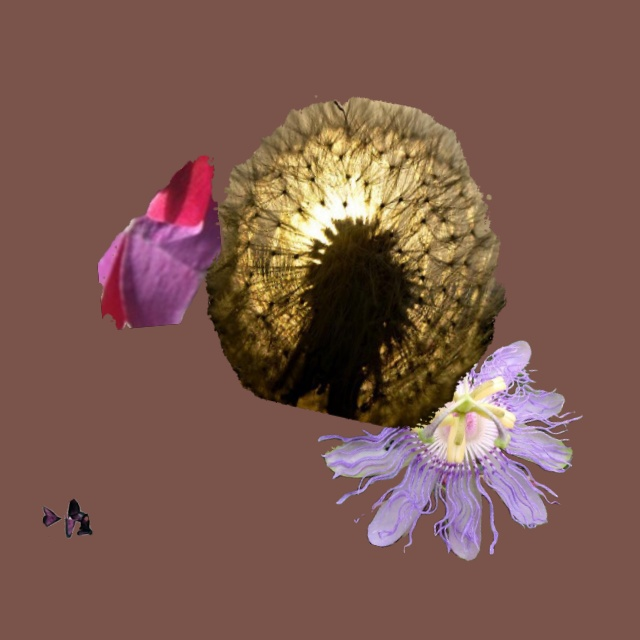butterfly flower: (97, 156, 221, 328), (43, 499, 91, 537)
dandelion: (205, 95, 506, 430)
passion flower: (318, 322, 582, 560)
